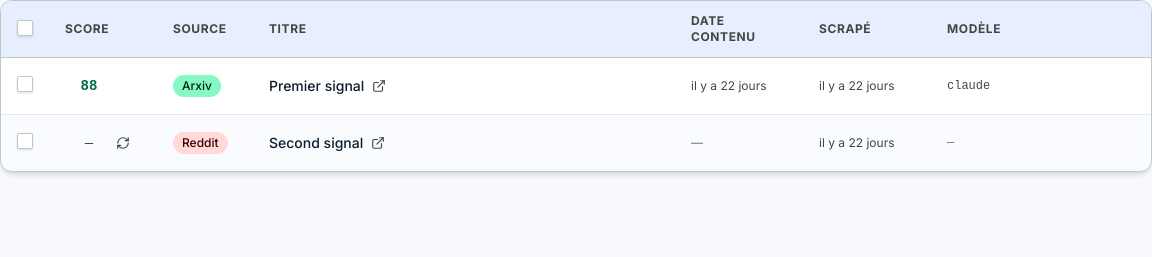
it: SignalTable › le bouton désélectionner tout vide la sélection
The width and height of the screenshot is (1152, 257).
Click the checkbox named "sélectionner tous les signaux". click: x=25, y=28
box: [17,20,33,36]
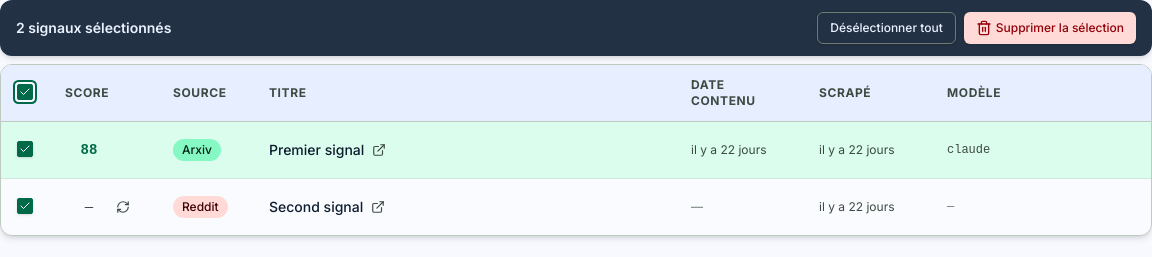
Now the text "2 signaux sélectionnés" is shown, box [16,18,171,38]
Click the button "Désélectionner tout". click: x=886, y=28
box: [817,12,956,44]
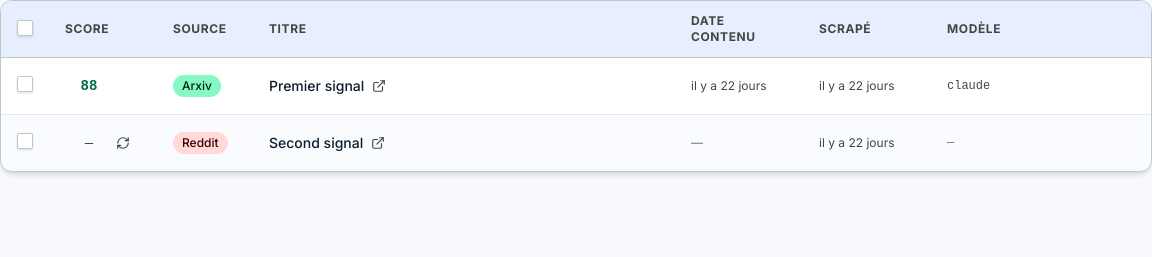
Now the text "sélectionné" is gone
